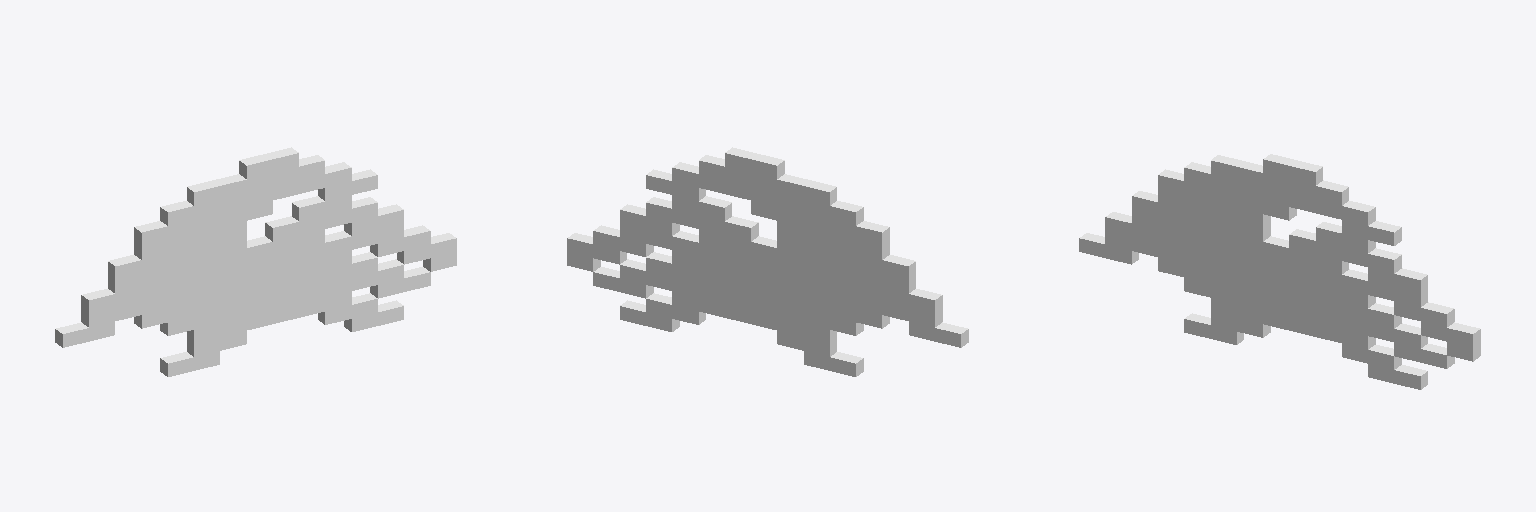
File: Alligator-Purple.vox.obj
3 renders of one model, left to right at view 1: azimuth 30°, elevation 25°; view 2: azimuth 150°, elevation 25°; view 3: azimuth 330°, elevation 25°, orthographic.
Visible parts, largest first — view 1: object 1; view 2: object 1; view 3: object 1.
Boxes of the visible parts, box(x1,y1,x2,y2) form: object 1: box(55, 147, 456, 376); object 1: box(567, 147, 968, 376); object 1: box(1079, 154, 1480, 389).
Bounding box in the file's own units: 3 × 1.4 × 0.1.